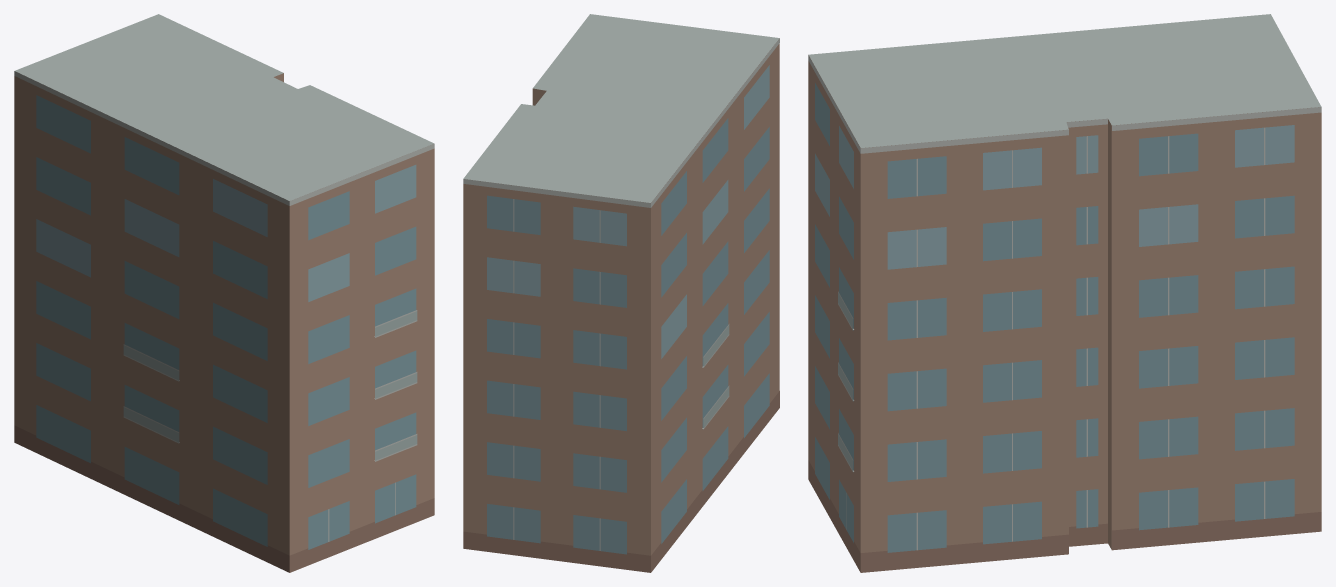
The model's file is survey-upis-32990264.glb.
The picture shows the model from 3 angles, left to right: view 1: azimuth 30°, elevation 25°; view 2: azimuth 150°, elevation 25°; view 3: azimuth 270°, elevation 25°; orthographic projection. The views are drawn at different scales.
Parts seen in each view (by area): view 1: survey-upis-32990264.tmp; view 2: survey-upis-32990264.tmp; view 3: survey-upis-32990264.tmp.
Boxes of the visible parts, box(x1,y1,x2,y2) form: survey-upis-32990264.tmp: box(14, 14, 434, 572); survey-upis-32990264.tmp: box(463, 14, 779, 572); survey-upis-32990264.tmp: box(808, 14, 1321, 572).
Bounding box in the file's own units: 12.41 × 18.3 × 20.05.
